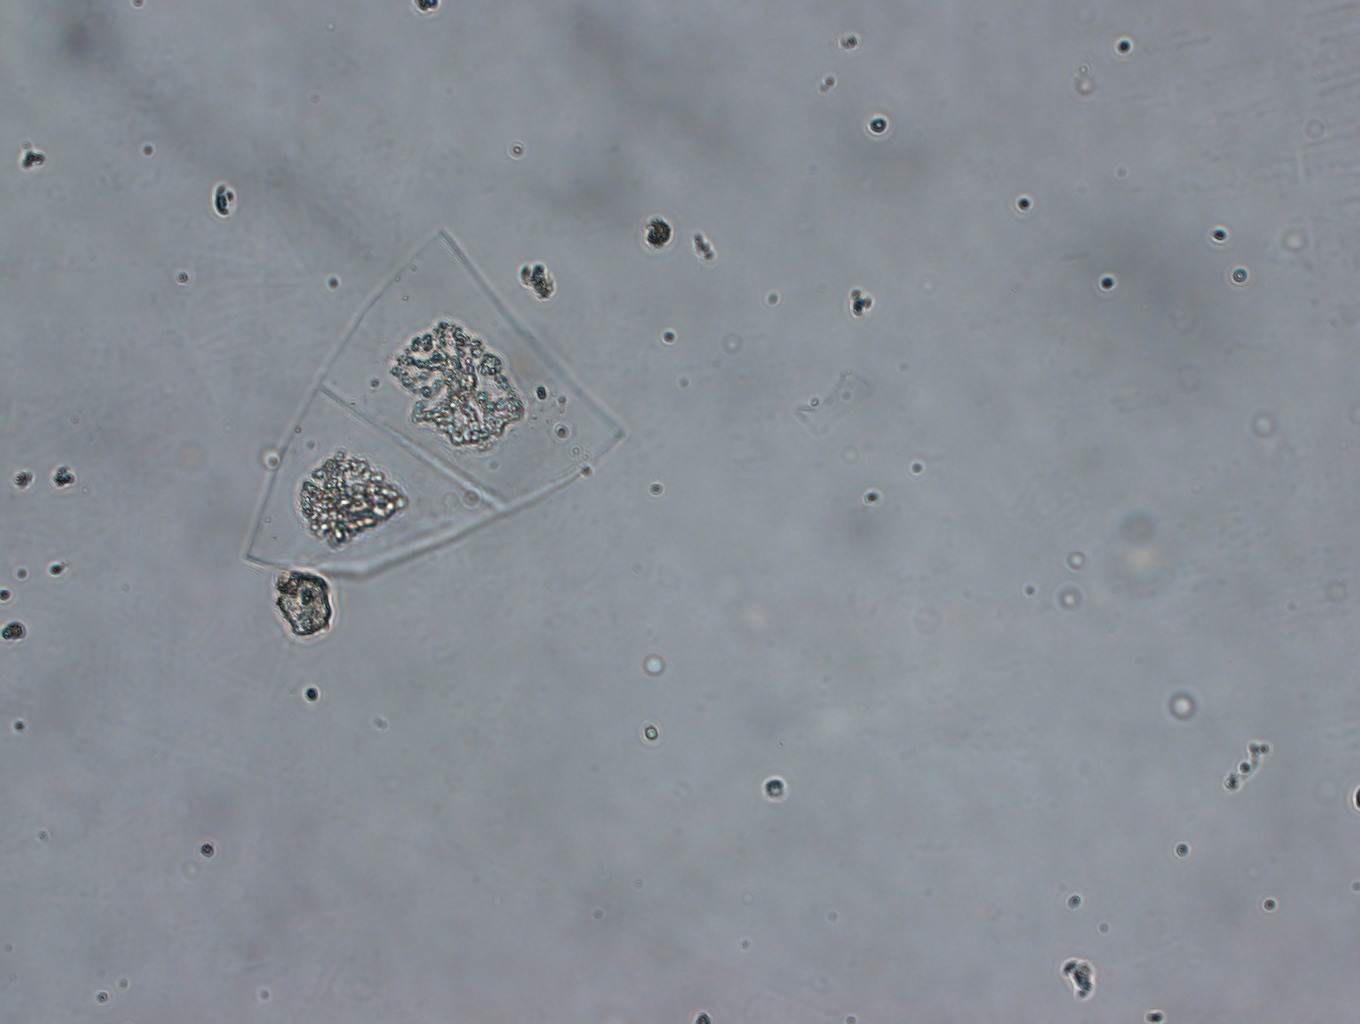helicotheca: (240, 223, 627, 586)
